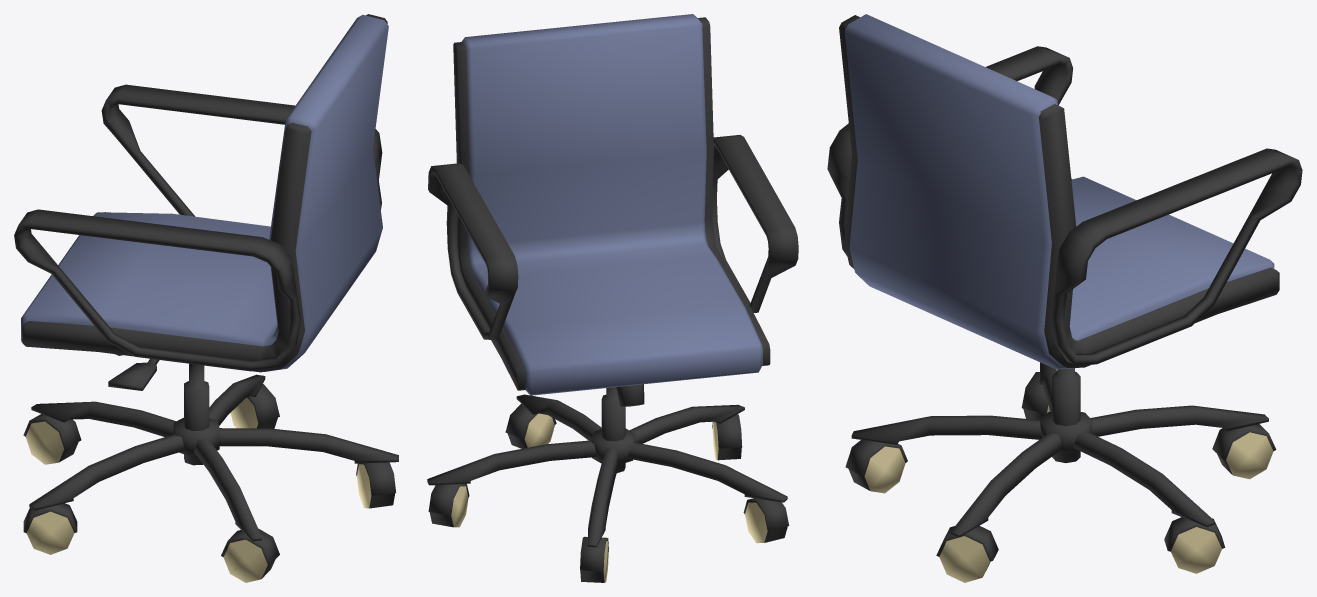
File: chair0.fbx
3 renders of one model, left to right at view 1: azimuth 30°, elevation 25°; view 2: azimuth 150°, elevation 25°; view 3: azimuth 270°, elevation 25°, orthographic. The views are drawn at different scales.
Visible parts, largest first — view 1: OfficeChair_Modern_003_255; view 2: OfficeChair_Modern_003_255; view 3: OfficeChair_Modern_003_255.
Boxes of the visible parts, x1,y1,x2,y2 form: OfficeChair_Modern_003_255: (14, 14, 398, 582); OfficeChair_Modern_003_255: (427, 14, 798, 582); OfficeChair_Modern_003_255: (827, 14, 1302, 582).
Size of the model in its own units: 77.85 by 88.88 by 77.48.
